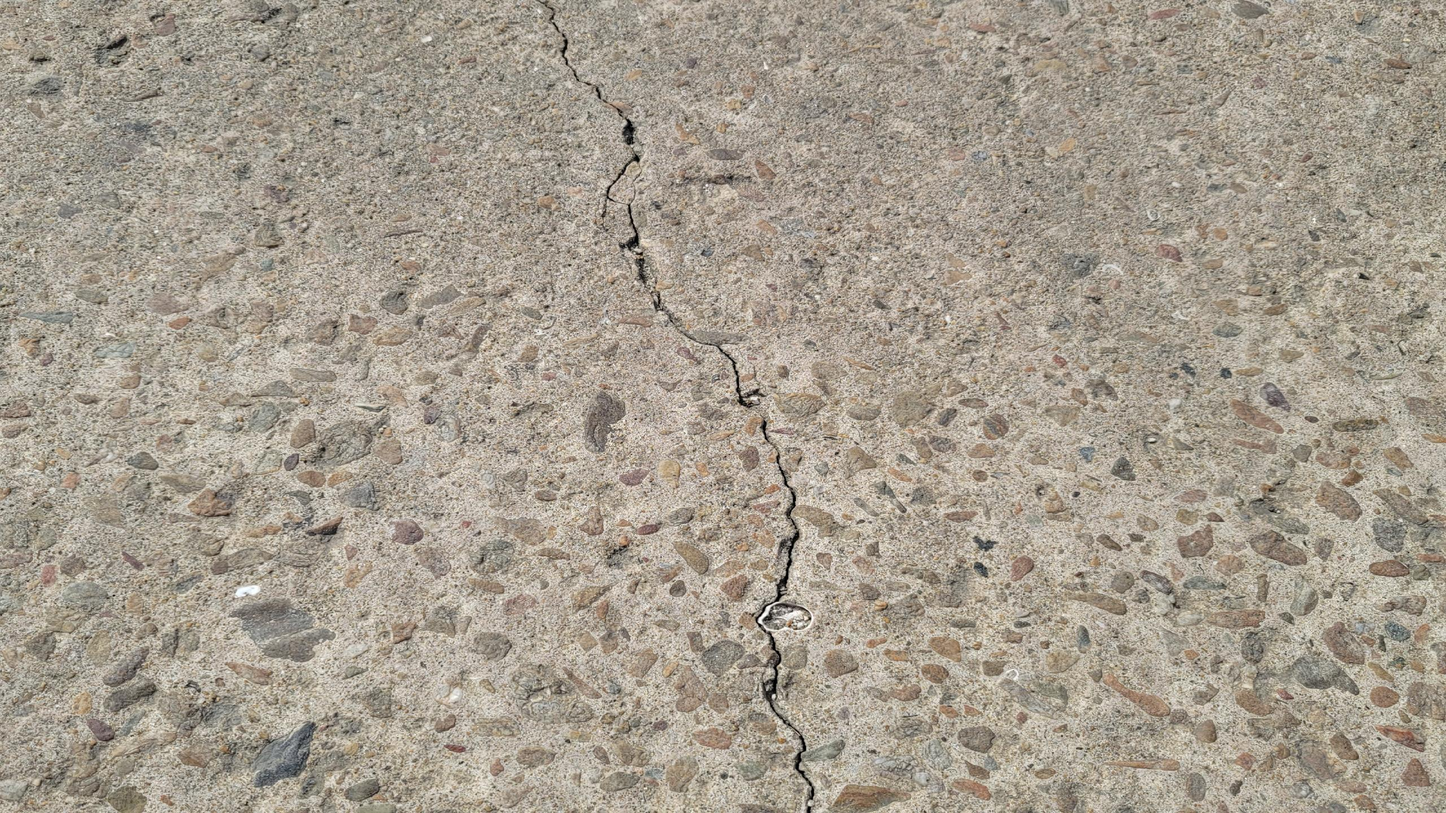crack: (624, 200, 818, 811), (542, 1, 643, 195)
